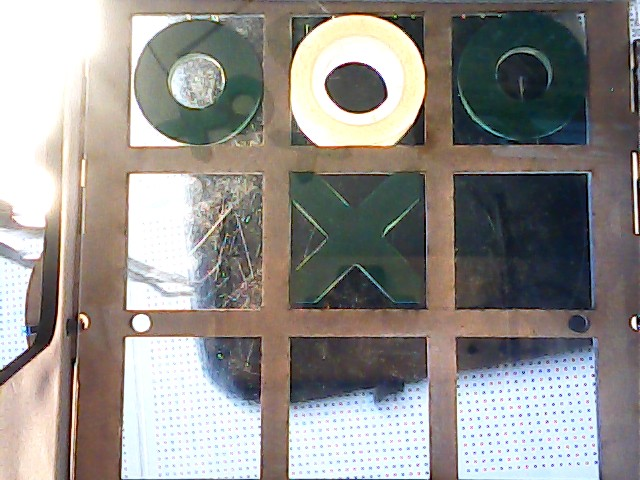O: (454, 18, 588, 145), (134, 14, 256, 138)
X: (289, 174, 425, 307)
